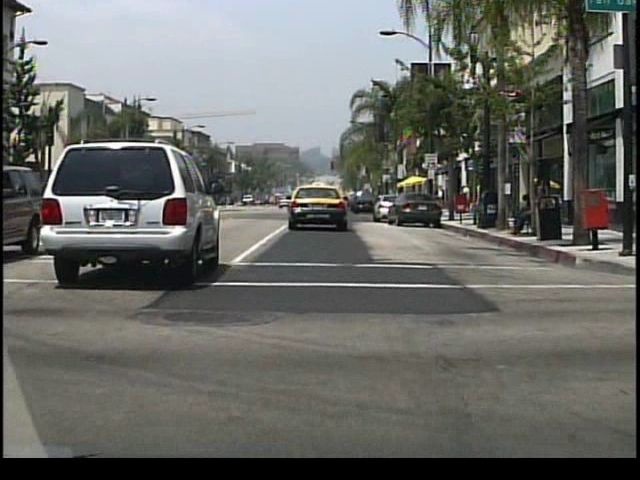person: (510, 190, 539, 235), (535, 178, 549, 233), (435, 184, 446, 211)
